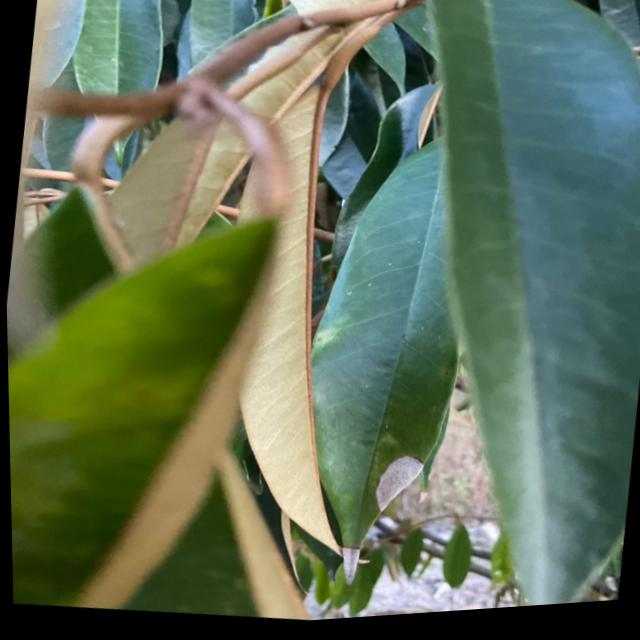Leaf Blight: (309, 145, 462, 587)
